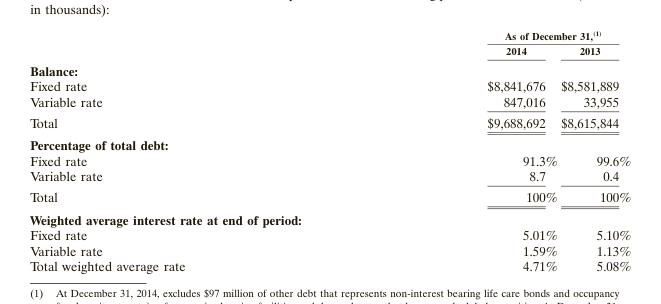table: (29, 28, 630, 273)
table column: (29, 28, 335, 273), (335, 28, 558, 273), (558, 28, 630, 273)
table column header: (29, 28, 630, 59)
table projected row header: (29, 133, 630, 152), (29, 207, 630, 226), (29, 59, 630, 77)
table row: (29, 111, 630, 133), (29, 186, 630, 207), (29, 133, 630, 152), (29, 167, 630, 186), (29, 207, 630, 226), (29, 59, 630, 77), (29, 93, 630, 111), (29, 42, 630, 59), (29, 77, 630, 93), (29, 226, 630, 242), (29, 257, 630, 273), (29, 152, 630, 167), (29, 242, 630, 257), (29, 28, 630, 42)
table spanning cell: (335, 28, 630, 42)
